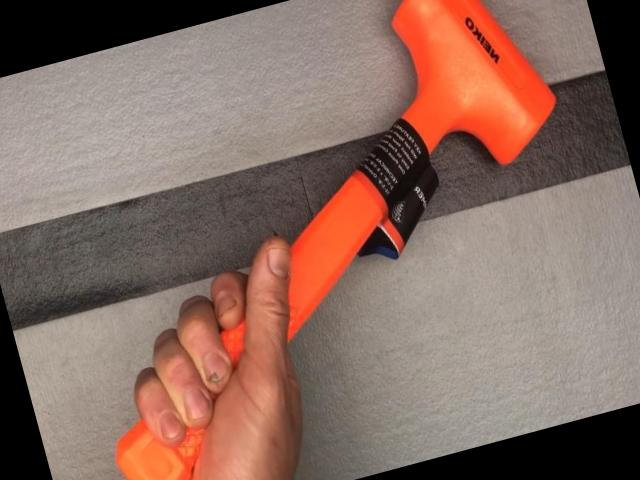hammer: (14, 0, 632, 480)
